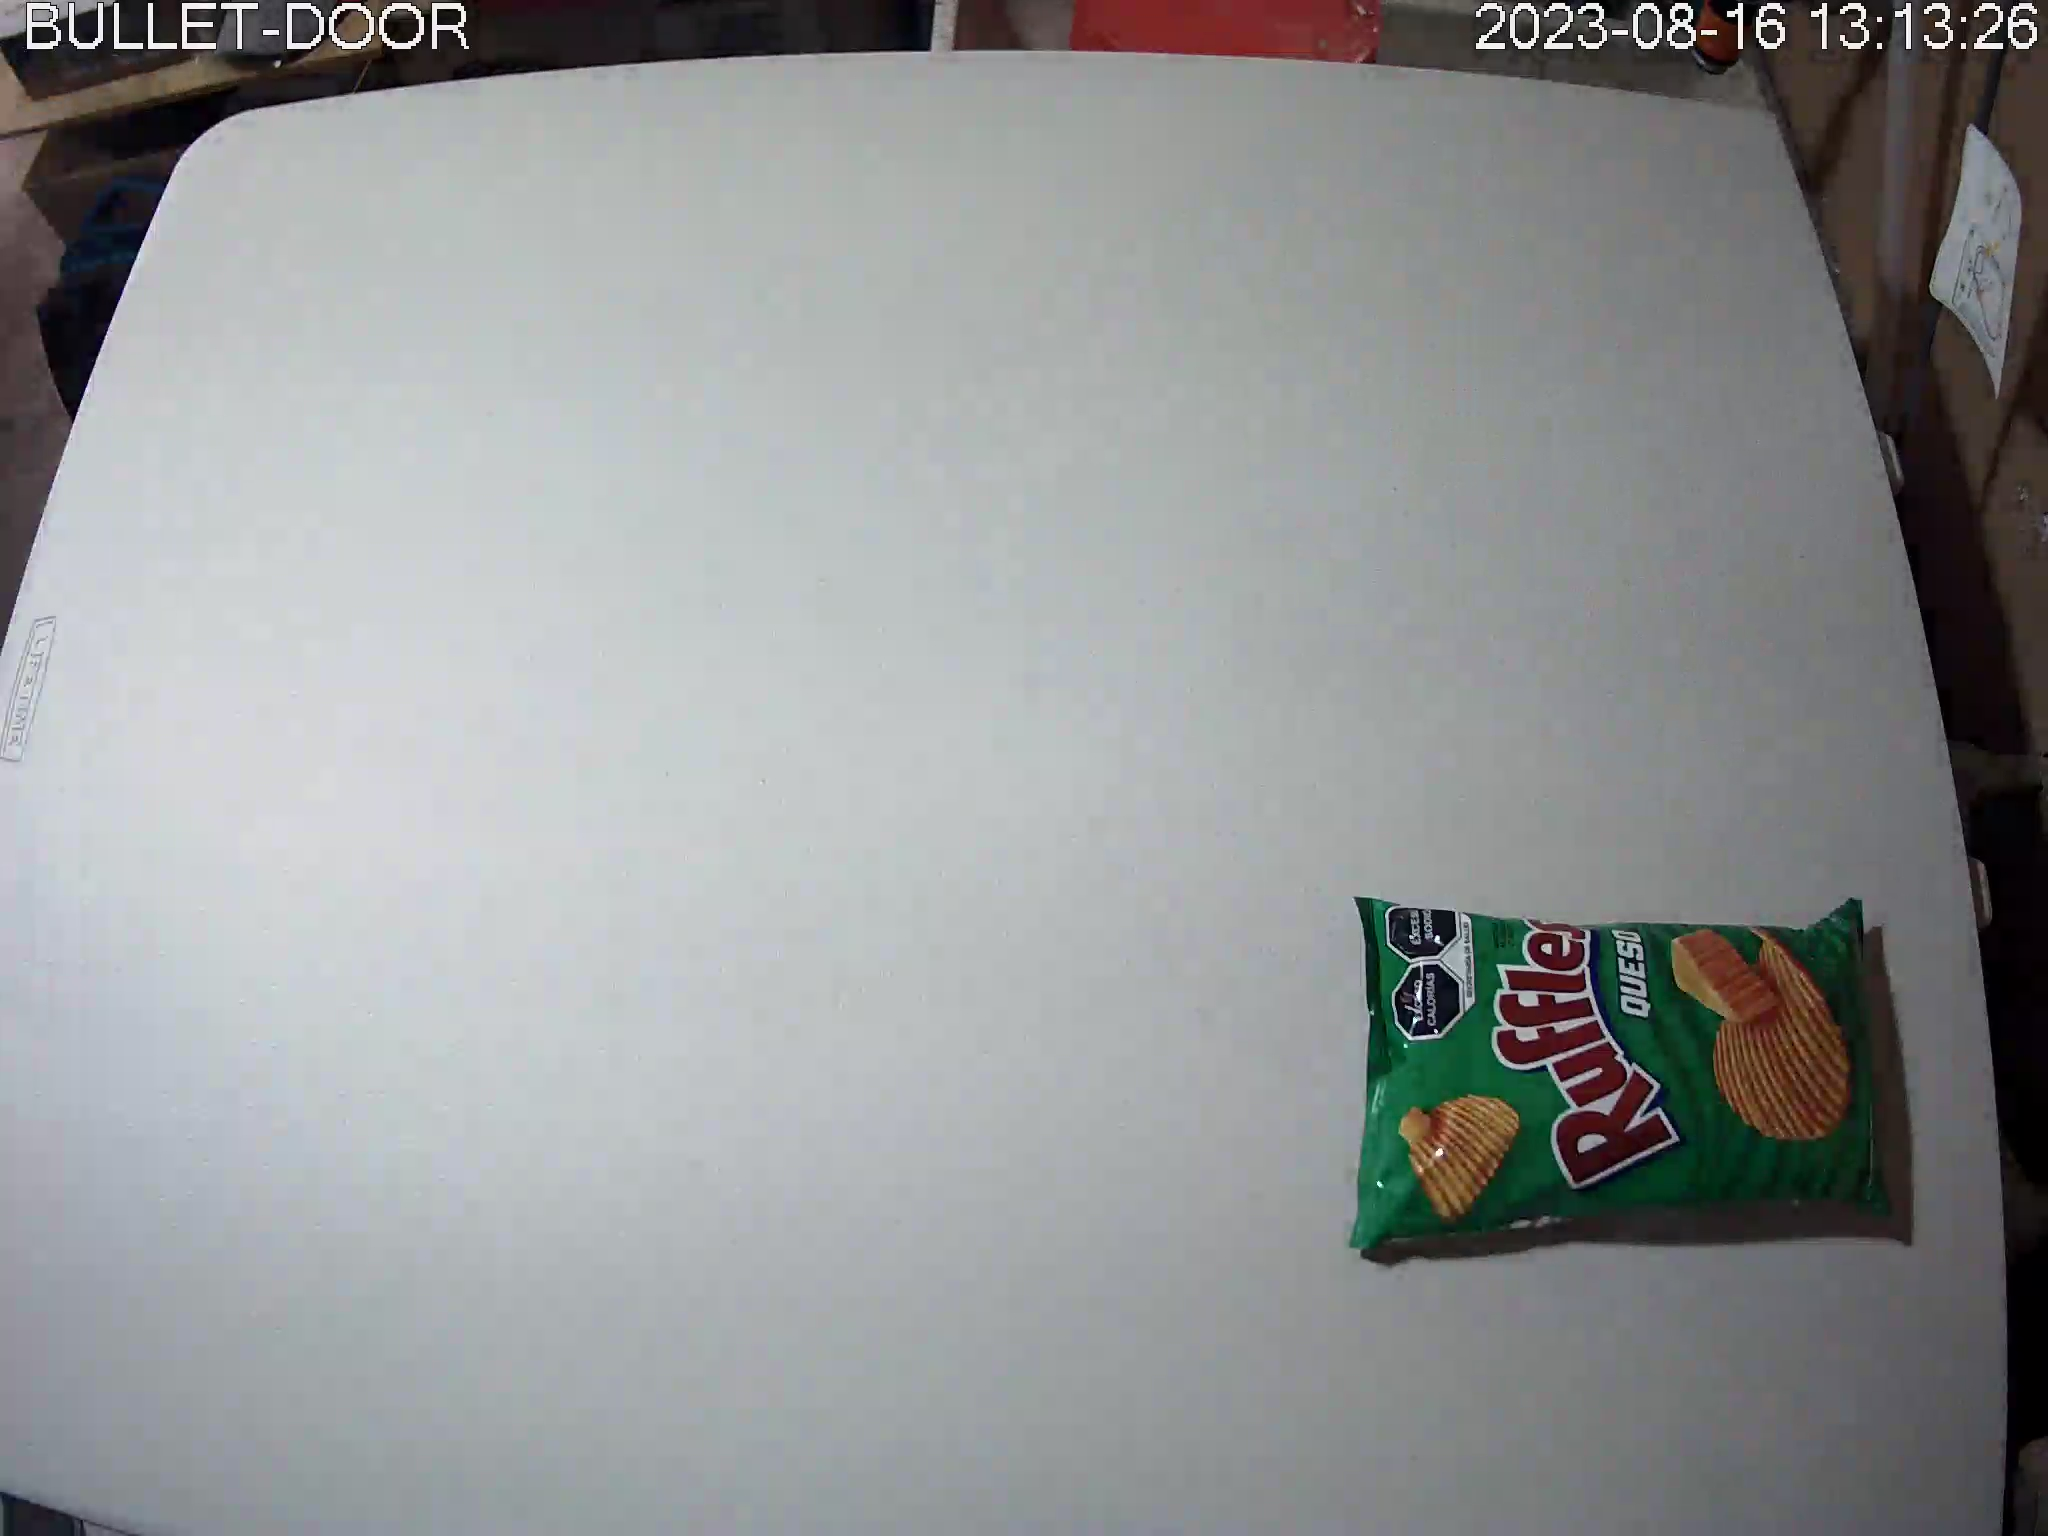RufflesQ_48_F: (1347, 891, 1895, 1255)
